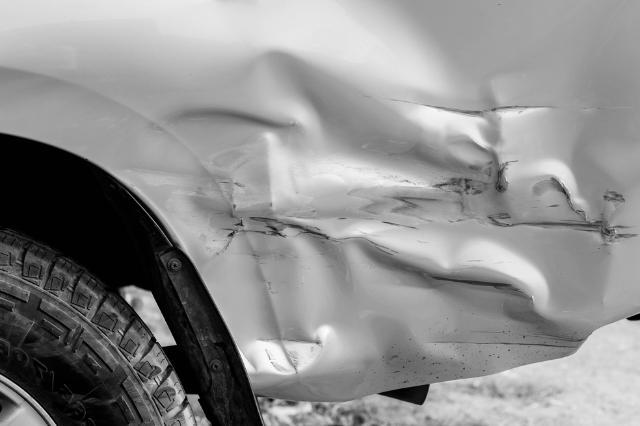Bumper: (137, 0, 640, 397)
